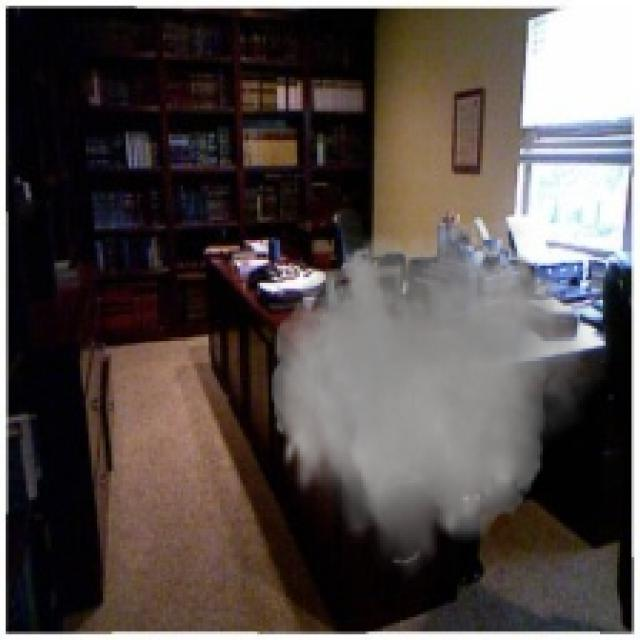smoke: (263, 203, 611, 586)
